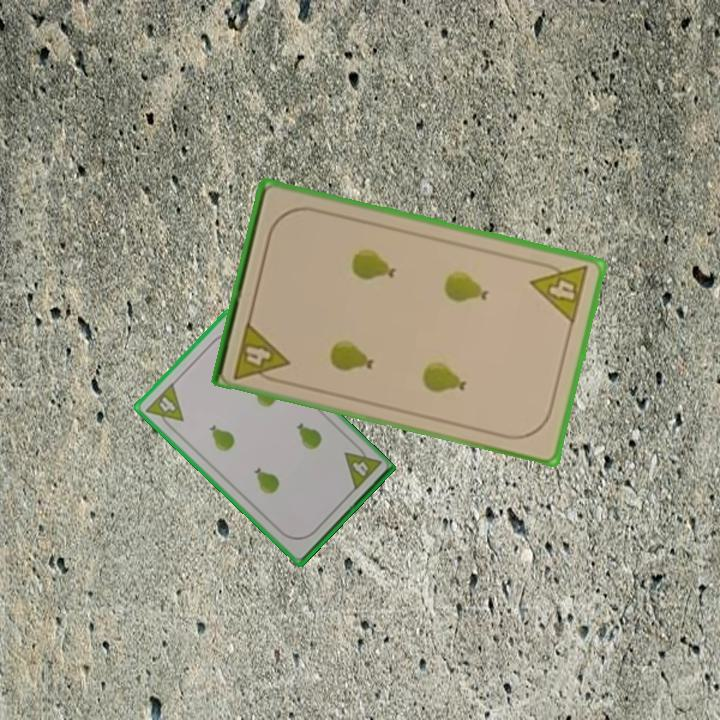4p: (527, 256, 592, 327), (230, 317, 292, 387), (142, 379, 186, 434), (341, 440, 384, 494)
